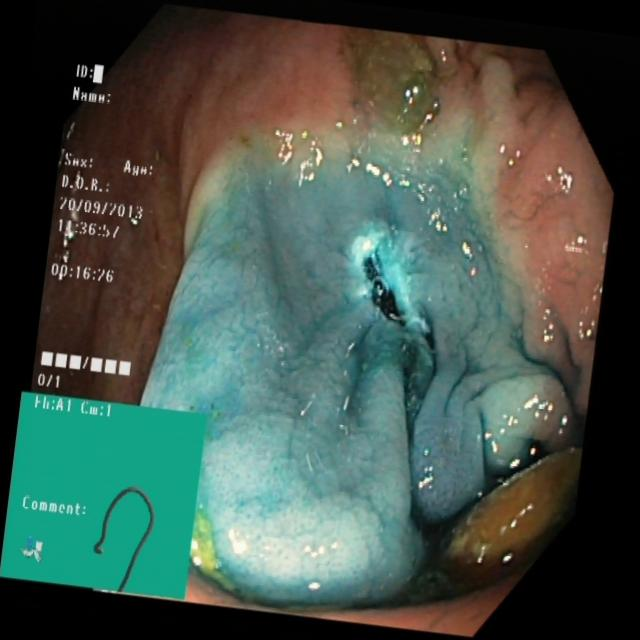dyed-resection-margins: (337, 205, 441, 374), (327, 34, 467, 140)
